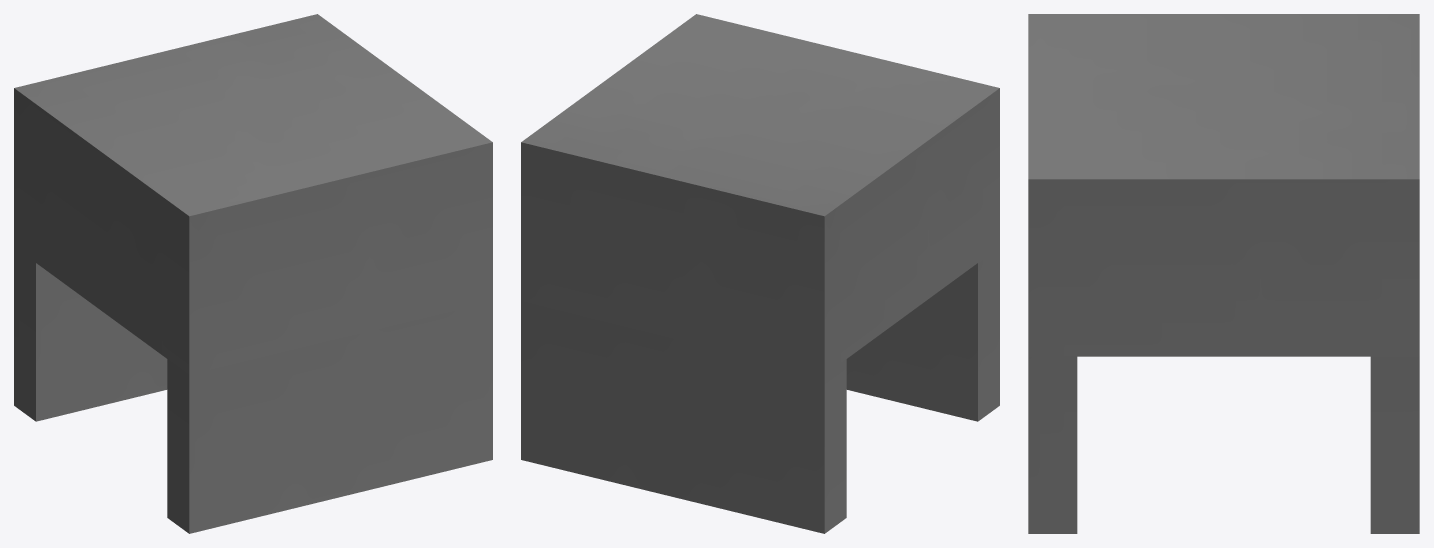
Rendered from dc_metro_roof_k1.obj.
3 renders of one model, left to right at view 1: azimuth 30°, elevation 25°; view 2: azimuth 150°, elevation 25°; view 3: azimuth 270°, elevation 25°, orthographic. The views are drawn at different scales.
Visible parts, largest first — view 1: cube; view 2: cube; view 3: cube.
Boxes of the visible parts, box(x1,y1,x2,y2) form: cube: box(14, 14, 492, 533); cube: box(521, 14, 999, 533); cube: box(1028, 14, 1419, 533).
Size of the model in its own units: 1 by 1 by 1.
Materials: 1 (1 with a texture image).
